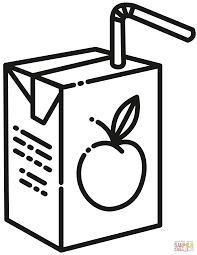Juice_Box: (9, 11, 175, 241)
